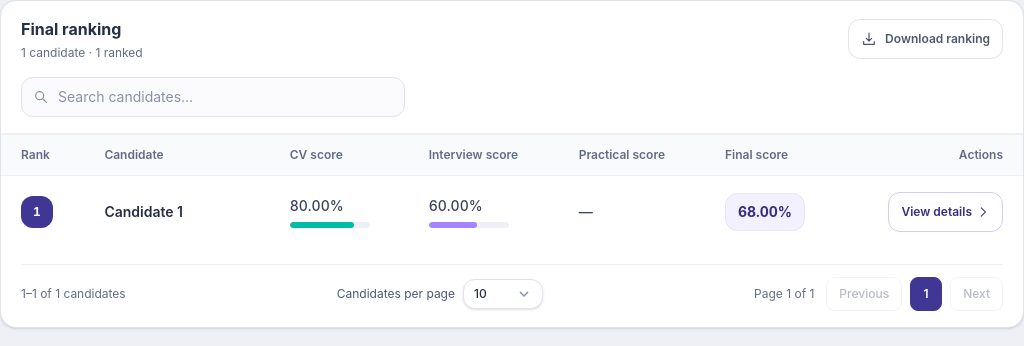
Test: keeps exports explicit and uses the existing ranking export endpoint
The image size is (1024, 346).
Click the heading "Download ranking": [926, 39] box [848,19,1003,59]
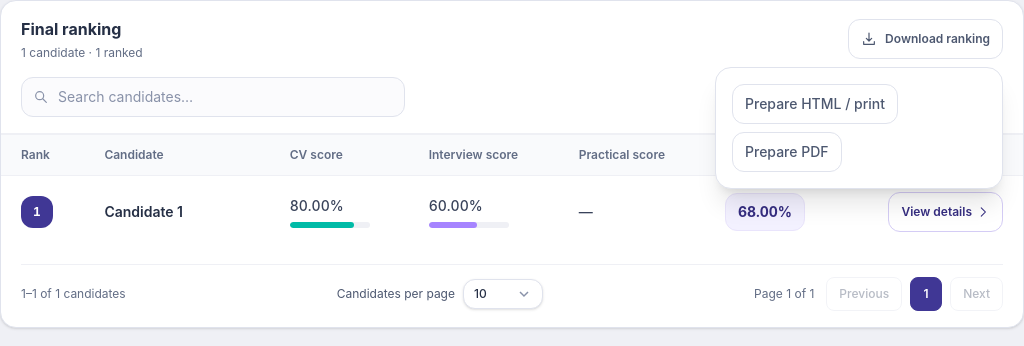
Click the button "Prepare PDF": [787, 152] box [732,132,842,172]
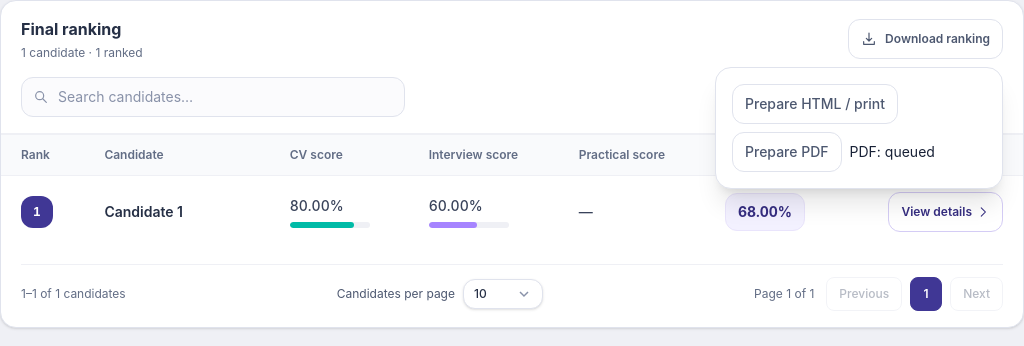
Result: the text "PDF: queued" is shown at [850,142,935,162]
